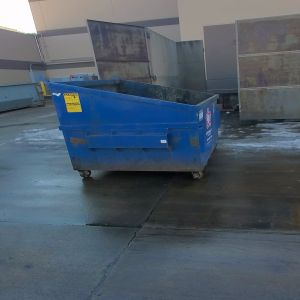Dumpster: (49, 84, 224, 185)
